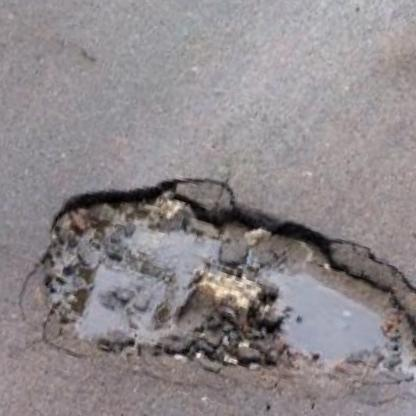pothole: (17, 139, 416, 416)
